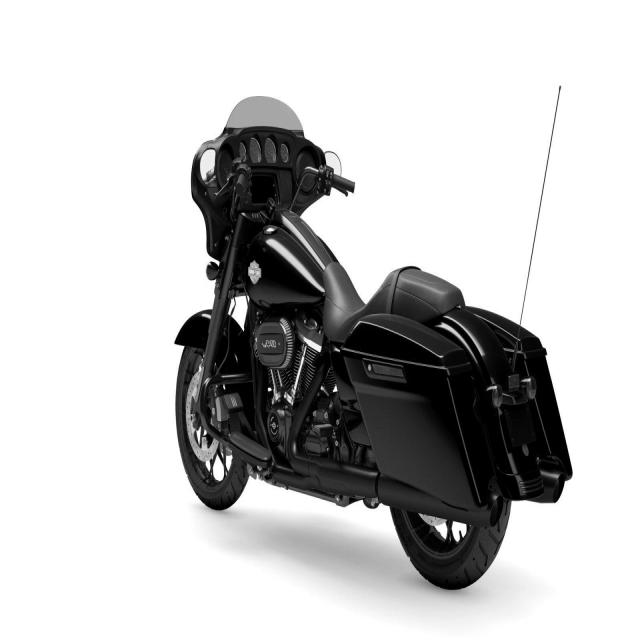Motorcycle: (176, 95, 574, 588)
